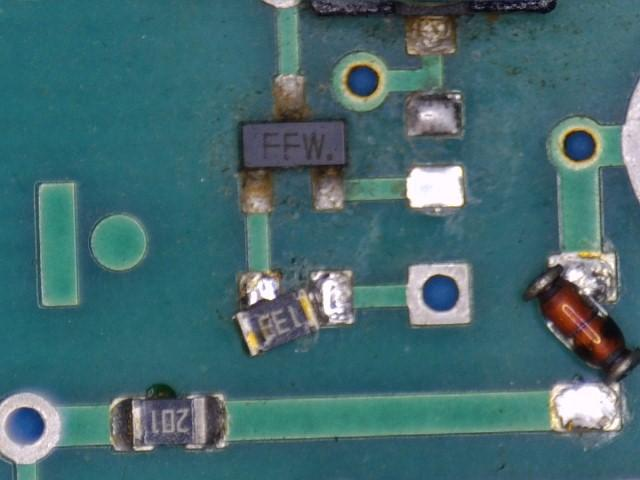Incorrect_installation: (524, 251, 640, 434), (235, 271, 355, 357)
